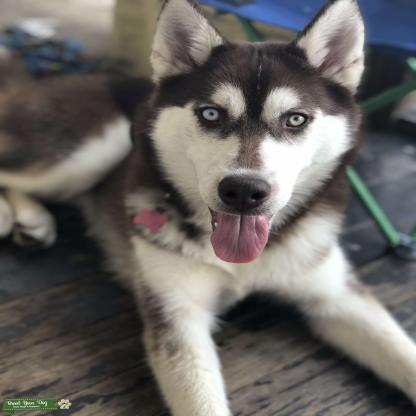husky: (5, 0, 416, 409)
